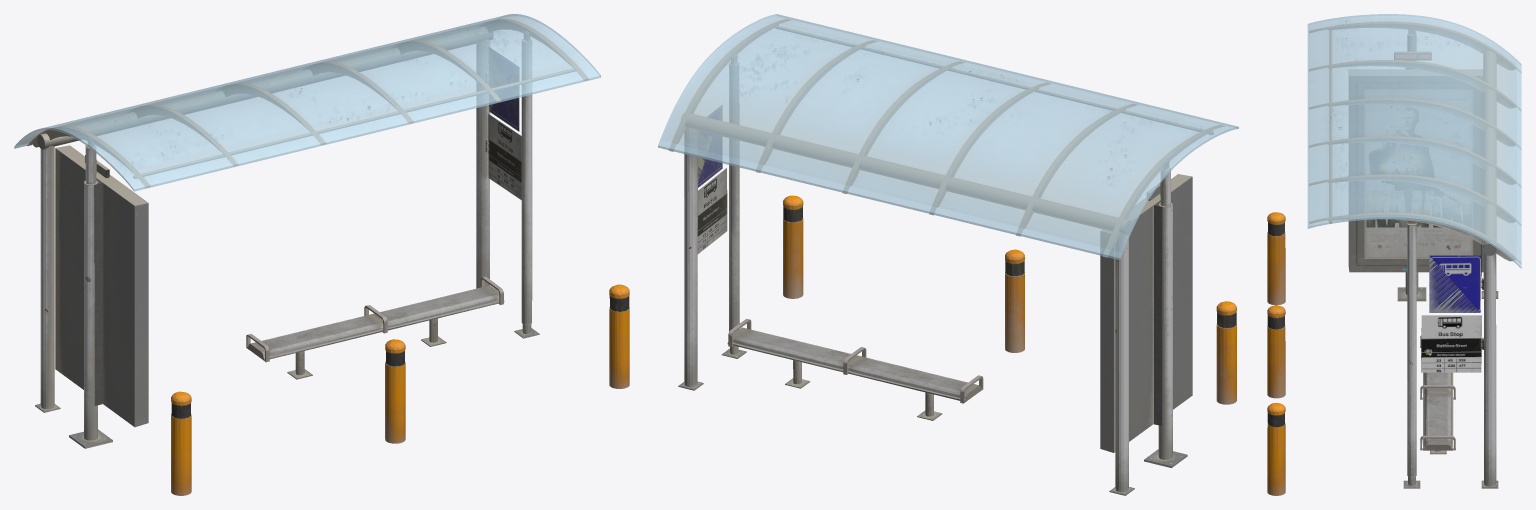
File: ubus.glb
3 renders of one model, left to right at view 1: azimuth 30°, elevation 25°; view 2: azimuth 150°, elevation 25°; view 3: azimuth 270°, elevation 25°, orthographic. The views are drawn at different scales.
Visible parts, largest first — view 1: Bustop_roof_1, Bustop_posters_3, Busstop_legs_0, Bustop_Bench_2, Bustop_roof.001_4; view 2: Bustop_roof_1, Bustop_posters_3, Busstop_legs_0, Bustop_Bench_2, Bustop_roof.001_4; view 3: Bustop_roof_1, Bustop_posters_3, Bustop_roof.001_4, Bustop_Bench_2, Busstop_legs_0.
Boxes of the visible parts, box(x1,y1,x2,y2) form: Bustop_roof_1: box(14, 14, 600, 191); Bustop_posters_3: box(55, 47, 521, 427); Busstop_legs_0: box(35, 31, 539, 448); Bustop_Bench_2: box(171, 276, 629, 495); Bustop_roof.001_4: box(27, 19, 588, 187); Bustop_roof_1: box(658, 14, 1238, 260); Bustop_posters_3: box(697, 105, 1192, 452); Busstop_legs_0: box(678, 54, 1187, 495); Bustop_Bench_2: box(727, 195, 1236, 420); Bustop_roof.001_4: box(669, 19, 1224, 257); Bustop_roof_1: box(1307, 14, 1521, 268); Bustop_posters_3: box(1348, 52, 1484, 372); Bustop_roof.001_4: box(1309, 22, 1521, 263); Bustop_Bench_2: box(1267, 212, 1455, 495); Busstop_legs_0: box(1397, 27, 1498, 488).
Bounding box in the file's own units: 4.84 × 2.99 × 2.51.
Materials: 4 (4 with a texture image).
